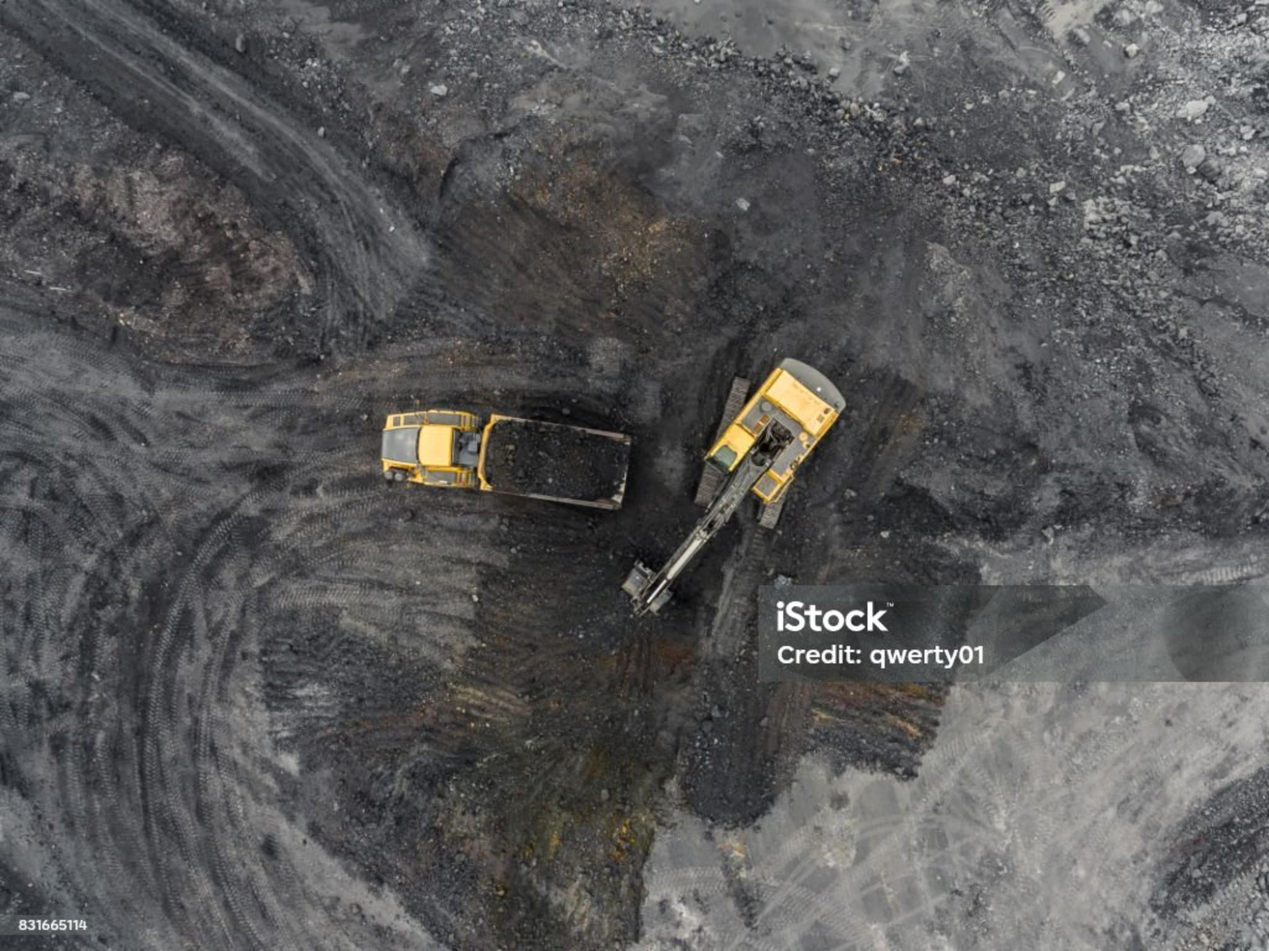benches: (0, 0, 433, 357), (107, 347, 316, 418)
excavator: (628, 349, 849, 628)
truck: (378, 399, 626, 517)
